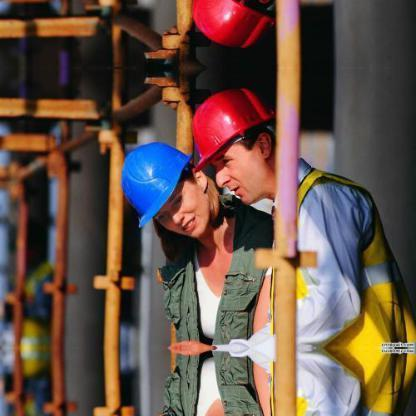helmet: (190, 81, 276, 171), (118, 138, 197, 229)
